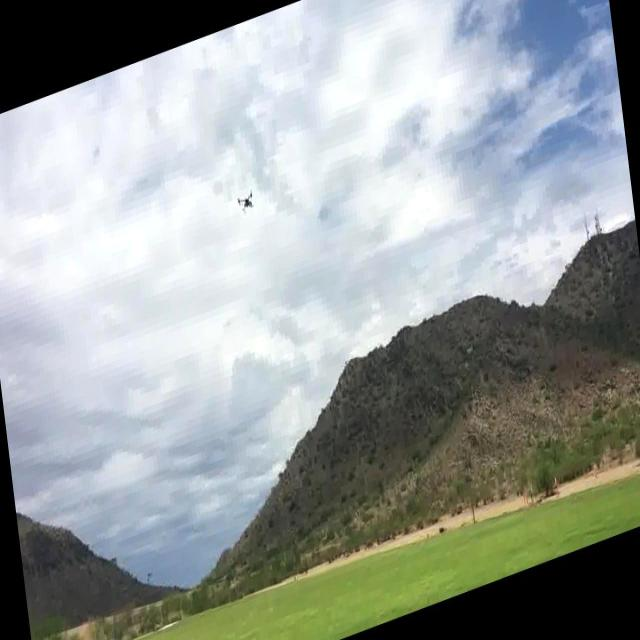drone: (234, 187, 256, 214)
